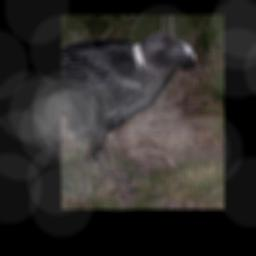Crow: (61, 31, 197, 203)
